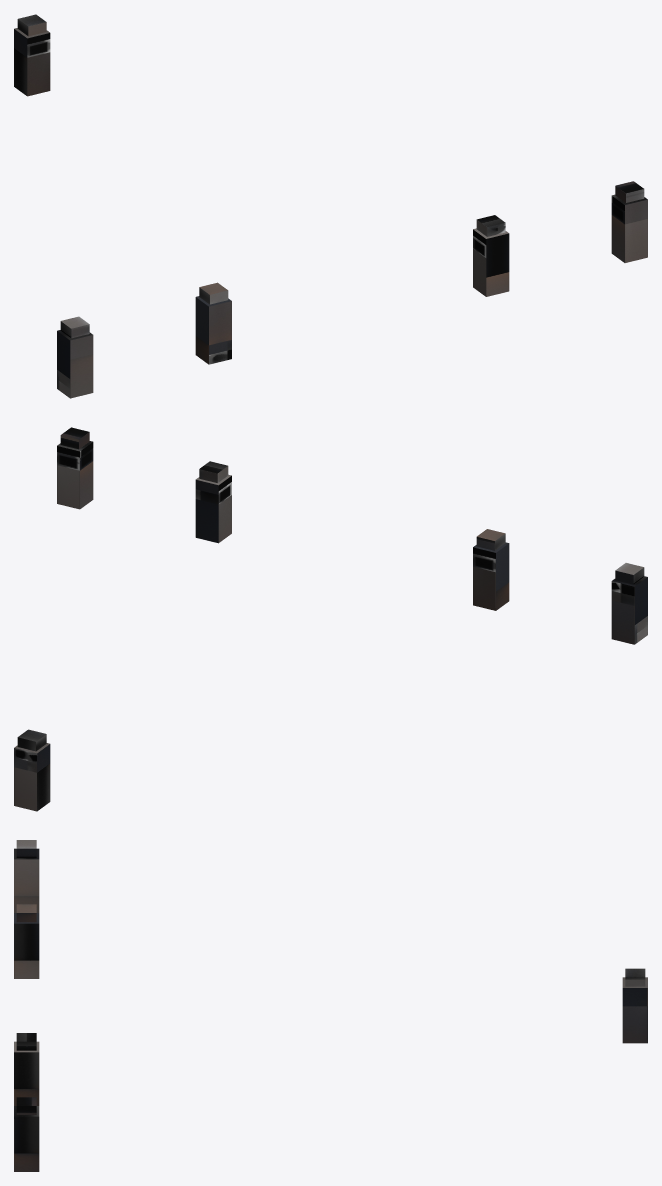
Rendered from podiums.glb.
3 views of the same model, one above another, from view 1: azimuth 30°, elevation 25°; view 2: azimuth 150°, elevation 25°; view 3: azimuth 270°, elevation 25° (orthographic). The views are drawn at different scales.
Visible parts, largest first — view 1: podiums; view 2: podiums; view 3: podiums.
Part boxes in pixels (x1,y1,x2,y2): podiums: (14,14,647,398); podiums: (14,427,647,811); podiums: (14,840,647,1171).
Bounding box in the file's own units: 12.5 × 1.41 × 12.5.
Materials: 1 (1 with a texture image).
